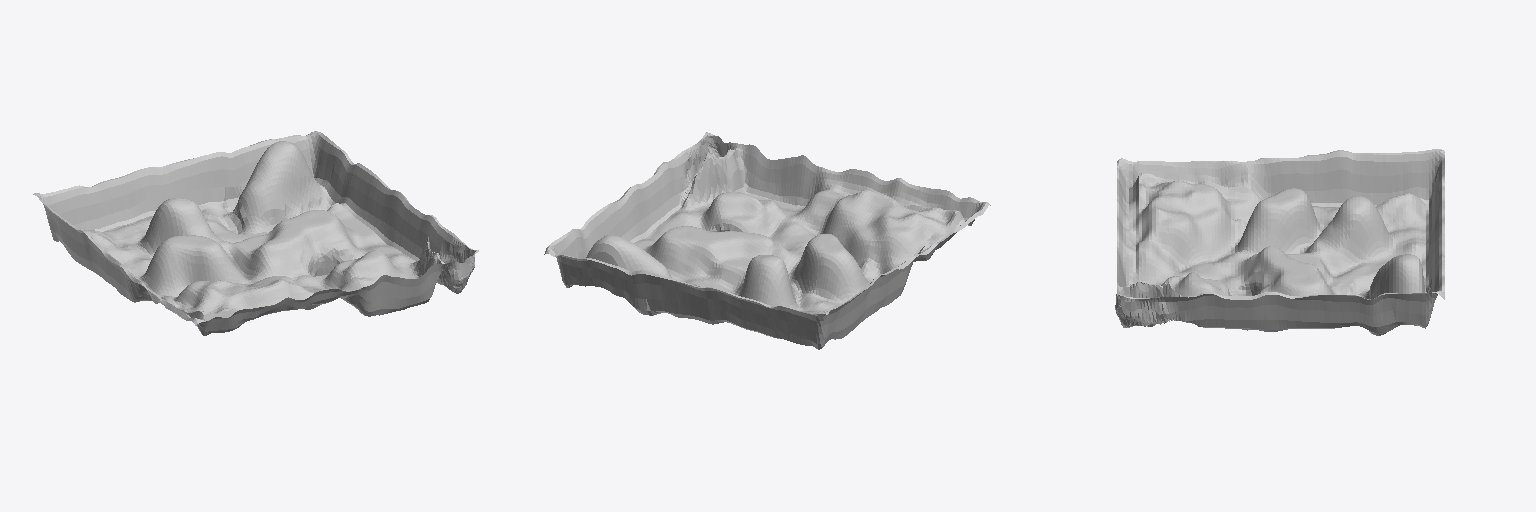
Rendered from terrain.obj.
The picture shows the model from 3 angles: view 1: azimuth 30°, elevation 25°; view 2: azimuth 150°, elevation 25°; view 3: azimuth 270°, elevation 25°; orthographic projection.
Parts seen in each view (by area): view 1: terrainBorderedM; view 2: terrainBorderedM; view 3: terrainBorderedM.
Part boxes in pixels (left/top/right/bottom): terrainBorderedM: left=33, top=131, right=478, bottom=335; terrainBorderedM: left=544, top=132, right=990, bottom=349; terrainBorderedM: left=1115, top=149, right=1444, bottom=335.
Size of the model in its own units: 498 by 146 by 500.